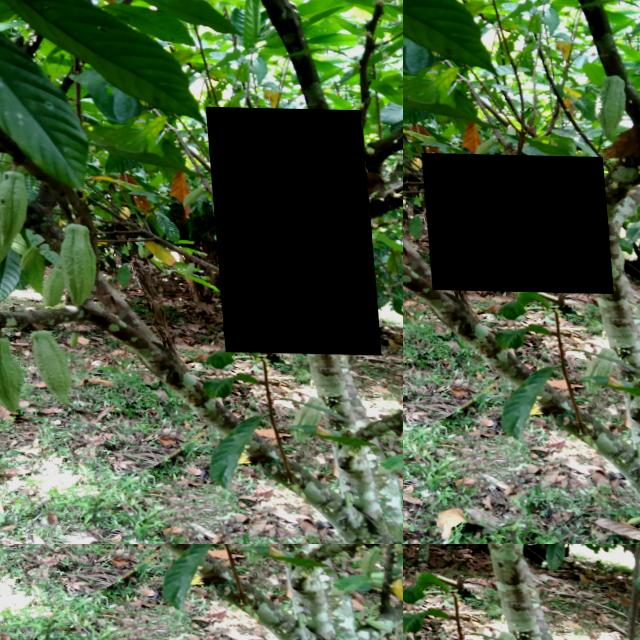Fitoftora: (204, 105, 375, 353)
Monilia: (418, 152, 608, 292)
